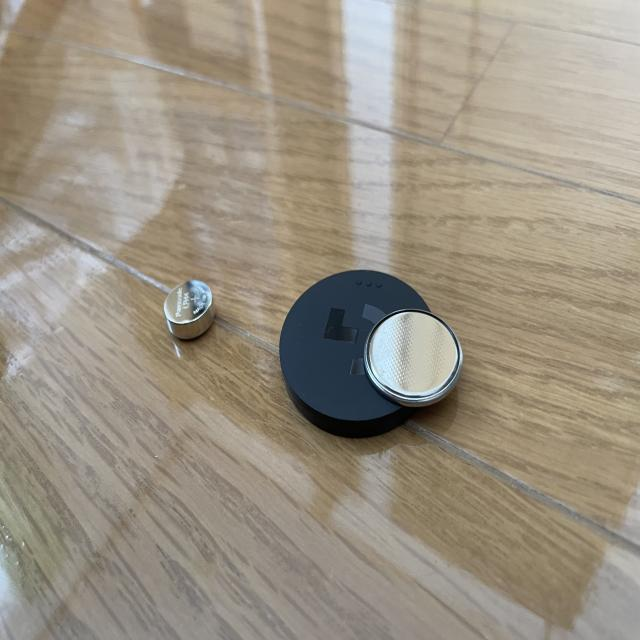COIN: (363, 308, 462, 409), (163, 279, 215, 341)
